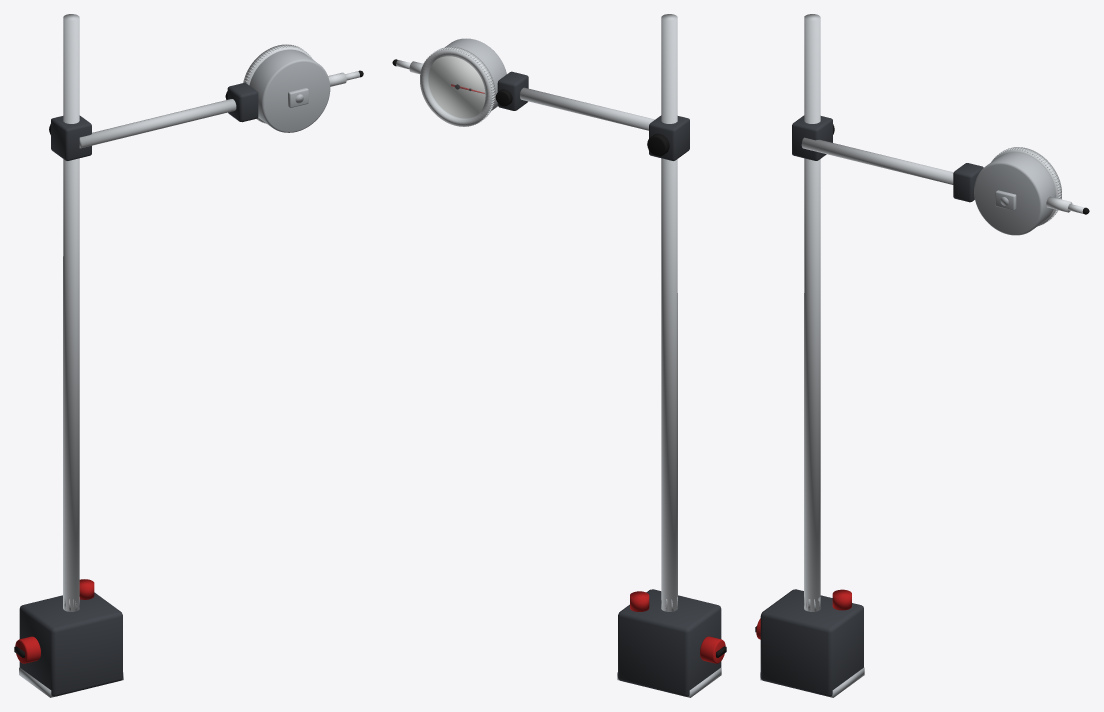
The model's file is dial-gauge-h.glb.
3 views of the same model, side by side, from view 1: azimuth 30°, elevation 25°; view 2: azimuth 150°, elevation 25°; view 3: azimuth 330°, elevation 25° (orthographic).
Visible parts, largest first — view 1: Stand, Case, Bezel; view 2: Stand, Bezel, Crystal, Case; view 3: Stand, Case, Bezel.
Boxes of the visible parts, x1=… form: Stand: x1=14, y1=14, x2=258, y2=697; Case: x1=249, y1=49, x2=346, y2=132; Bezel: x1=243, y1=44, x2=312, y2=123; Stand: x1=495, y1=14, x2=726, y2=697; Bezel: x1=420, y1=46, x2=495, y2=126; Crystal: x1=426, y1=56, x2=485, y2=120; Case: x1=409, y1=38, x2=506, y2=110; Stand: x1=755, y1=14, x2=983, y2=697; Case: x1=974, y1=152, x2=1072, y2=235; Bezel: x1=991, y1=147, x2=1061, y2=225.
Bounding box in the file's own units: 0.2805 × 0.5251 × 0.0511.
